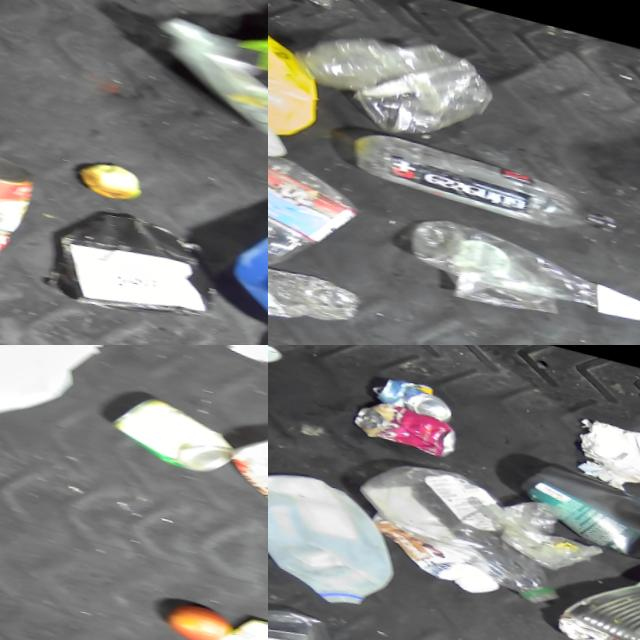can: (95, 384, 234, 477), (543, 526, 640, 640), (345, 392, 461, 459), (363, 368, 457, 422)
milk_jug: (268, 455, 408, 618), (135, 4, 268, 141), (0, 345, 109, 445), (167, 598, 268, 640)
non_white_jug: (500, 445, 640, 568), (203, 179, 268, 345), (268, 0, 331, 144)
plastic_bottle: (336, 444, 573, 607), (340, 121, 621, 240), (394, 204, 602, 306), (268, 129, 369, 303), (268, 245, 359, 336), (268, 345, 306, 373)
